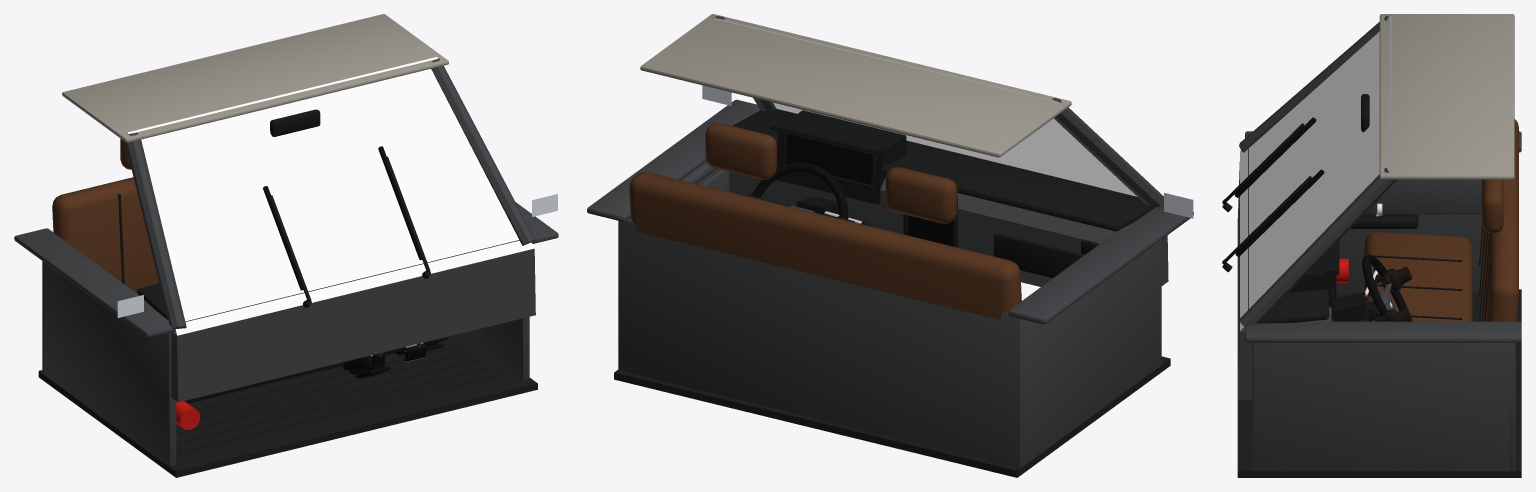
Rendered from interior-pickup.glb.
3 renders of one model, left to right at view 1: azimuth 30°, elevation 25°; view 2: azimuth 150°, elevation 25°; view 3: azimuth 270°, elevation 25°, orthographic. The views are drawn at different scales.
Visible parts, largest first — view 1: Cabin, RainGlass, Wiper_A, Wiper_B, Pedal_Gas; view 2: Cabin, RainGlass, Screen_Cluster, Wheel, Screen_Stack; view 3: Cabin, RainGlass, Wheel, Wiper_A, Wiper_B.
Part boxes in pixels (x1,y1,x2,y2): Cabin: [14, 14, 558, 477]; RainGlass: [128, 57, 534, 335]; Wiper_A: [378, 146, 430, 278]; Wiper_B: [263, 186, 311, 307]; Pedal_Gas: [343, 352, 390, 378]; Cabin: [587, 14, 1193, 477]; RainGlass: [714, 18, 1137, 196]; Screen_Cluster: [785, 134, 872, 184]; Wheel: [747, 162, 853, 221]; Screen_Stack: [907, 215, 952, 246]; Cabin: [1237, 14, 1521, 477]; RainGlass: [1240, 15, 1391, 330]; Wheel: [1362, 254, 1412, 321]; Wiper_A: [1222, 169, 1324, 271]; Wiper_B: [1222, 117, 1316, 211].
Bounding box in the file's own units: 2.18 × 1.39 × 1.24.
